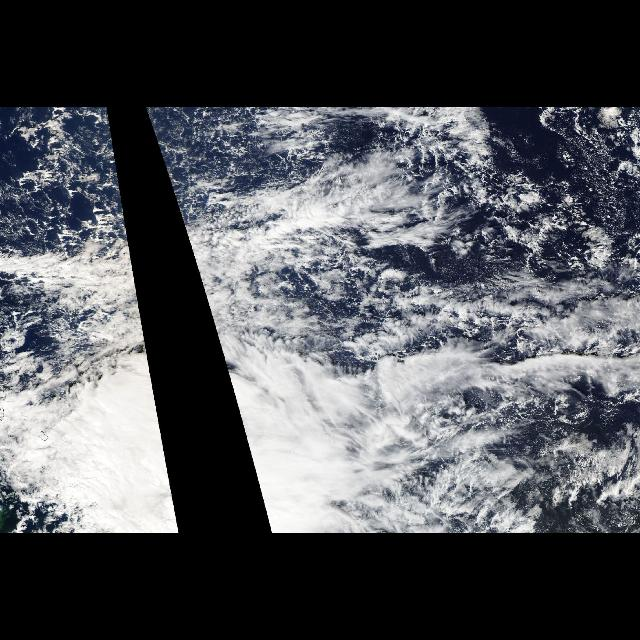Gravel: (468, 112, 632, 288), (146, 111, 290, 231), (0, 111, 130, 231)
